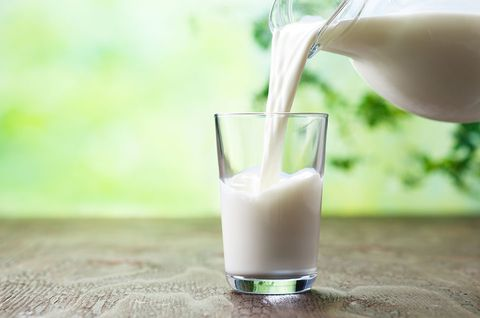glass of milk: (217, 115, 326, 295)
